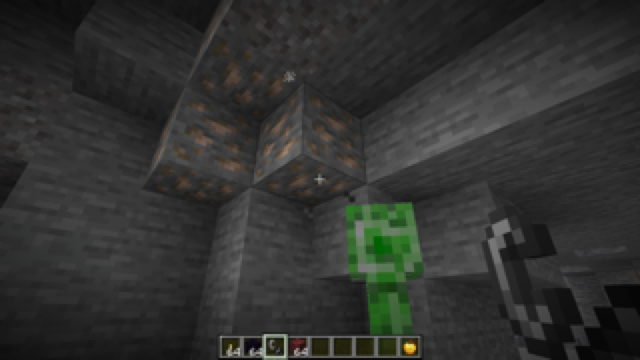iron: (140, 16, 369, 208)
